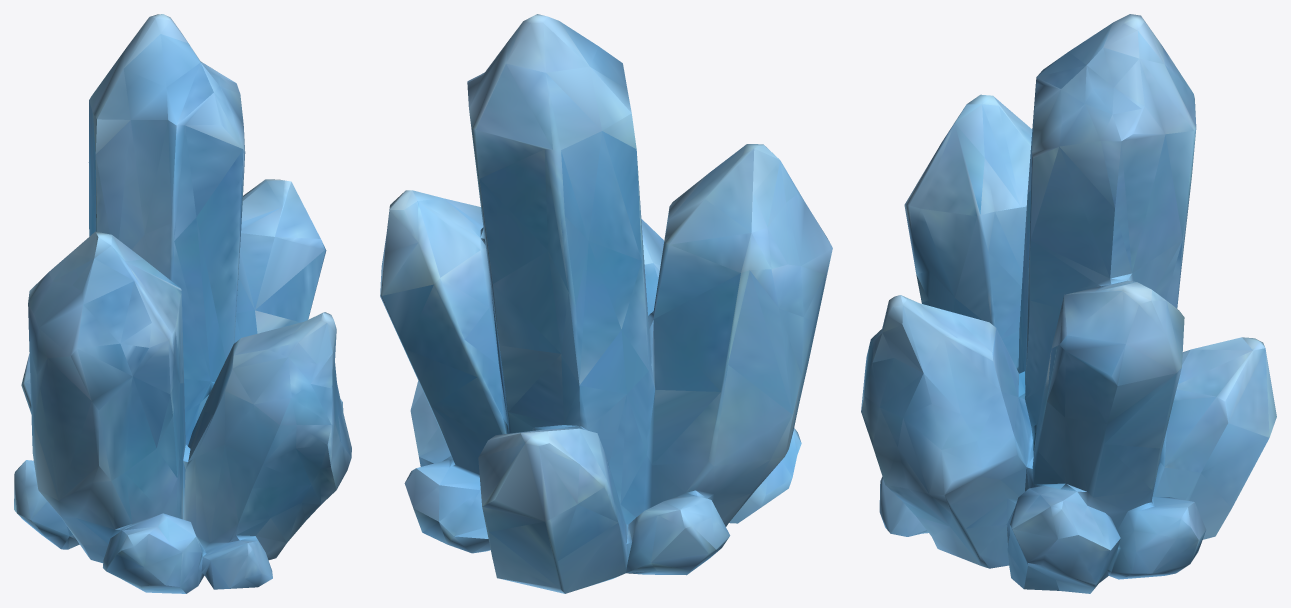
Rendered from racimo_hielo_p_1200.glb.
3 renders of one model, left to right at view 1: azimuth 30°, elevation 25°; view 2: azimuth 150°, elevation 25°; view 3: azimuth 270°, elevation 25°, orthographic. The views are drawn at different scales.
Parts seen in each view (by area): view 1: racimo_hielo_p_malla; view 2: racimo_hielo_p_malla; view 3: racimo_hielo_p_malla.
Part boxes in pixels (x1=…): racimo_hielo_p_malla: x1=14, y1=14, x2=351, y2=593; racimo_hielo_p_malla: x1=380, y1=14, x2=832, y2=593; racimo_hielo_p_malla: x1=861, y1=14, x2=1276, y2=593.
Bounding box in the file's own units: 0.1218 × 0.167 × 0.1212.
Materials: 1 (1 with a texture image).
